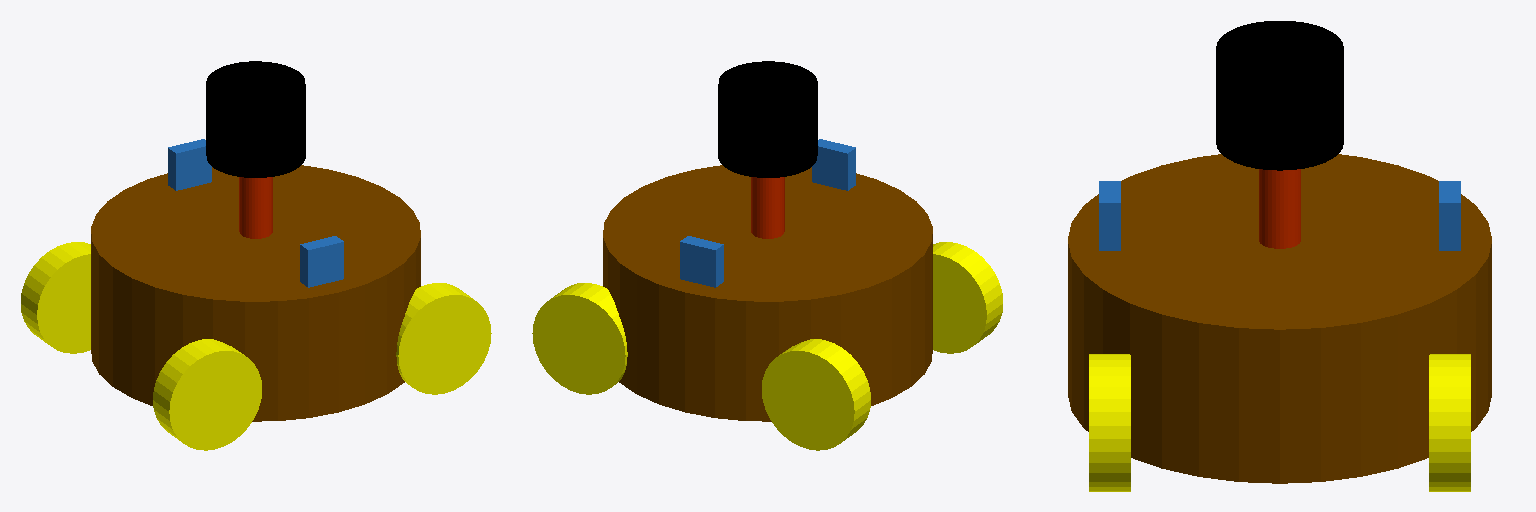
URDF robot description (my_robot):
<?xml version="1.0" ?>
<!-- =================================================================================== -->
<!-- |    This document was autogenerated by xacro from /home/hiro/ros2/AIC_car_2025/install/robot_gazebo/share/robot_gazebo/launch/../urdf/robot.urdf.xacro | -->
<!-- |    EDITING THIS FILE BY HAND IS NOT RECOMMENDED                                 | -->
<!-- =================================================================================== -->
<robot name="my_robot">
  <!-- 宏:颜色设置 -->
  <material name="black">
    <color rgba="0.0 0.0 0.0 1.0"/>
  </material>
  <material name="yellow">
    <color rgba="1.0 1.0 0.0 1.0"/>
  </material>
  <!-- 虚拟的 root link（无质量，无惯性） -->
  <link name="base_footprint"/>
  <!-- 原 base_link 是 base_footprint 的子链接 -->
  <joint name="base_footprint_to_base_link" type="fixed">
    <parent link="base_footprint"/>
    <child link="base_link"/>
    <origin rpy="0 0 0" xyz="0 0 0.0425"/>
  </joint>
  <!-- 底盘主体 -->
  <link name="base_link">
    <!-- 可视化 -->
    <visual>
      <geometry>
        <cylinder length="0.08" radius="0.1"/>
      </geometry>
      <origin rpy="0 0 0" xyz="0 0 0"/>
      <material name="yellow">
        <color rgba="0.5 0.3 0.0 0.5"/>
      </material>
    </visual>
    <!-- 碰撞体 -->
    <collision>
      <geometry>
        <cylinder length="0.08" radius="0.1"/>
      </geometry>
      <origin rpy="0 0 0" xyz="0 0 0"/>
    </collision>
    <!-- 惯性矩阵 -->
    <inertial>
      <mass value="2.0"/>
      <origin rpy="0 0 0" xyz="0 0 0"/>
      <inertia ixx="0.006066666666666668" ixy="0" ixz="0" iyy="0.006066666666666668" iyz="0" izz="0.1"/>
    </inertial>
  </link>
  <link name="front_left_wheel">
    <visual>
      <geometry>
        <cylinder length="0.02" radius="0.0325"/>
      </geometry>
      <origin rpy="1.5707963 0 0" xyz="0 0 0"/>
      <material name="yellow"/>
    </visual>
    <collision>
      <geometry>
        <cylinder length="0.02" radius="0.0325"/>
      </geometry>
      <origin rpy="1.5707963 0 0" xyz="0 0 0"/>
      <!-- 添加摩擦力 -->
      <surface>
        <friction>
          <ode>
            <mu>1.0</mu>
            <!-- 主摩擦系数 -->
            <mu2>1.0</mu2>
            <!-- 次摩擦系数 -->
          </ode>
        </friction>
      </surface>
    </collision>
    <inertial>
      <mass value="0.1"/>
      <inertia ixx="2.9739583333333336e-05" ixy="0" ixz="0" iyy="2.9739583333333336e-05" iyz="0" izz="5.281250000000001e-05"/>
    </inertial>
  </link>
  <joint name="front_left_wheel_joint" type="continuous">
    <parent link="base_link"/>
    <child link="front_left_wheel"/>
    <origin rpy="0 0 0" xyz="0.08 0.08 -0.0175"/>
    <axis xyz="0 1 0"/>
  </joint>
  <gazebo reference="front_left_wheel">
    <material>Gazebo/yellow</material>
  </gazebo>
  <link name="front_right_wheel">
    <visual>
      <geometry>
        <cylinder length="0.02" radius="0.0325"/>
      </geometry>
      <origin rpy="1.5707963 0 0" xyz="0 0 0"/>
      <material name="yellow"/>
    </visual>
    <collision>
      <geometry>
        <cylinder length="0.02" radius="0.0325"/>
      </geometry>
      <origin rpy="1.5707963 0 0" xyz="0 0 0"/>
      <!-- 添加摩擦力 -->
      <surface>
        <friction>
          <ode>
            <mu>1.0</mu>
            <!-- 主摩擦系数 -->
            <mu2>1.0</mu2>
            <!-- 次摩擦系数 -->
          </ode>
        </friction>
      </surface>
    </collision>
    <inertial>
      <mass value="0.1"/>
      <inertia ixx="2.9739583333333336e-05" ixy="0" ixz="0" iyy="2.9739583333333336e-05" iyz="0" izz="5.281250000000001e-05"/>
    </inertial>
  </link>
  <joint name="front_right_wheel_joint" type="continuous">
    <parent link="base_link"/>
    <child link="front_right_wheel"/>
    <origin rpy="0 0 0" xyz="0.08 -0.08 -0.0175"/>
    <axis xyz="0 1 0"/>
  </joint>
  <gazebo reference="front_right_wheel">
    <material>Gazebo/yellow</material>
  </gazebo>
  <link name="rear_left_wheel">
    <visual>
      <geometry>
        <cylinder length="0.02" radius="0.0325"/>
      </geometry>
      <origin rpy="1.5707963 0 0" xyz="0 0 0"/>
      <material name="yellow"/>
    </visual>
    <collision>
      <geometry>
        <cylinder length="0.02" radius="0.0325"/>
      </geometry>
      <origin rpy="1.5707963 0 0" xyz="0 0 0"/>
      <!-- 添加摩擦力 -->
      <surface>
        <friction>
          <ode>
            <mu>1.0</mu>
            <!-- 主摩擦系数 -->
            <mu2>1.0</mu2>
            <!-- 次摩擦系数 -->
          </ode>
        </friction>
      </surface>
    </collision>
    <inertial>
      <mass value="0.1"/>
      <inertia ixx="2.9739583333333336e-05" ixy="0" ixz="0" iyy="2.9739583333333336e-05" iyz="0" izz="5.281250000000001e-05"/>
    </inertial>
  </link>
  <joint name="rear_left_wheel_joint" type="continuous">
    <parent link="base_link"/>
    <child link="rear_left_wheel"/>
    <origin rpy="0 0 0" xyz="-0.08 0.08 -0.0175"/>
    <axis xyz="0 1 0"/>
  </joint>
  <gazebo reference="rear_left_wheel">
    <material>Gazebo/yellow</material>
  </gazebo>
  <link name="rear_right_wheel">
    <visual>
      <geometry>
        <cylinder length="0.02" radius="0.0325"/>
      </geometry>
      <origin rpy="1.5707963 0 0" xyz="0 0 0"/>
      <material name="yellow"/>
    </visual>
    <collision>
      <geometry>
        <cylinder length="0.02" radius="0.0325"/>
      </geometry>
      <origin rpy="1.5707963 0 0" xyz="0 0 0"/>
      <!-- 添加摩擦力 -->
      <surface>
        <friction>
          <ode>
            <mu>1.0</mu>
            <!-- 主摩擦系数 -->
            <mu2>1.0</mu2>
            <!-- 次摩擦系数 -->
          </ode>
        </friction>
      </surface>
    </collision>
    <inertial>
      <mass value="0.1"/>
      <inertia ixx="2.9739583333333336e-05" ixy="0" ixz="0" iyy="2.9739583333333336e-05" iyz="0" izz="5.281250000000001e-05"/>
    </inertial>
  </link>
  <joint name="rear_right_wheel_joint" type="continuous">
    <parent link="base_link"/>
    <child link="rear_right_wheel"/>
    <origin rpy="0 0 0" xyz="-0.08 -0.08 -0.0175"/>
    <axis xyz="0 1 0"/>
  </joint>
  <gazebo reference="rear_right_wheel">
    <material>Gazebo/yellow</material>
  </gazebo>
  <!-- 摄像头质量 -->
  <!-- 摄像头 Link -->
  <link name="camera1">
    <visual>
      <geometry>
        <box size="0.01 0.025 0.025"/>
      </geometry>
      <origin rpy="0 0 0" xyz="0 0 0"/>
      <material name="camera_blue">
        <color rgba="0.2 0.5 0.8 1.0"/>
      </material>
    </visual>
    <collision>
      <geometry>
        <box size="0.01 0.025 0.025"/>
      </geometry>
      <origin rpy="0 0 0" xyz="0 0 0"/>
    </collision>
    <inertial>
      <mass value="0.01"/>
      <inertia ixx="6.041666666666668e-07" ixy="0" ixz="0" iyy="6.041666666666668e-07" iyz="0" izz="1.041666666666667e-06"/>
    </inertial>
  </link>
  <!-- 摄像头 Joint -->
  <joint name="camera1_joint" type="fixed">
    <parent link="base_link"/>
    <child link="camera1"/>
    <origin rpy="0 0 1.5708" xyz="0.0 0.08 0.052500000000000005"/>
  </joint>
  <!-- Gazebo 材质 -->
  <gazebo reference="camera1">
    <material>Gazebo/Blue</material>
  </gazebo>
  <!-- Gazebo 摄像头传感器插件 -->
  <gazebo reference="camera1">
    <sensor name="camera1_sensor" type="camera">
      <update_rate>30.0</update_rate>
      <visualize>true</visualize>
      <!-- 在 Gazebo 中显示摄像头视锥 -->
      <camera name="camera1">
        <horizontal_fov>1.6</horizontal_fov>
        <!-- 90度视角 = 1.6 弧度 -->
        <image>
          <width>1280</width>
          <!-- 720p 宽度 -->
          <height>720</height>
          <!-- 720p 高度 -->
          <format>R8G8B8</format>
        </image>
        <clip>
          <near>0.02</near>
          <far>10.0</far>
        </clip>
        <noise>
          <type>gaussian</type>
          <mean>0.0</mean>
          <stddev>0.007</stddev>
        </noise>
      </camera>
      <plugin filename="libgazebo_ros_camera.so" name="camera1_controller">
        <ros>
          <namespace/>
          <remapping>image_raw:=camera1/image_raw</remapping>
          <remapping>camera_info:=camera1/camera_info</remapping>
        </ros>
        <camera_name>camera1</camera_name>
        <frame_name>camera1</frame_name>
        <hack_baseline>0.07</hack_baseline>
      </plugin>
    </sensor>
  </gazebo>
  <!-- 摄像头 Link -->
  <link name="camera2">
    <visual>
      <geometry>
        <box size="0.01 0.025 0.025"/>
      </geometry>
      <origin rpy="0 0 0" xyz="0 0 0"/>
      <material name="camera_blue">
        <color rgba="0.2 0.5 0.8 1.0"/>
      </material>
    </visual>
    <collision>
      <geometry>
        <box size="0.01 0.025 0.025"/>
      </geometry>
      <origin rpy="0 0 0" xyz="0 0 0"/>
    </collision>
    <inertial>
      <mass value="0.01"/>
      <inertia ixx="6.041666666666668e-07" ixy="0" ixz="0" iyy="6.041666666666668e-07" iyz="0" izz="1.041666666666667e-06"/>
    </inertial>
  </link>
  <!-- 摄像头 Joint -->
  <joint name="camera2_joint" type="fixed">
    <parent link="base_link"/>
    <child link="camera2"/>
    <origin rpy="0 0 -1.5708" xyz="0.0 -0.08 0.052500000000000005"/>
  </joint>
  <!-- Gazebo 材质 -->
  <gazebo reference="camera2">
    <material>Gazebo/Blue</material>
  </gazebo>
  <!-- Gazebo 摄像头传感器插件 -->
  <gazebo reference="camera2">
    <sensor name="camera2_sensor" type="camera">
      <update_rate>30.0</update_rate>
      <visualize>true</visualize>
      <!-- 在 Gazebo 中显示摄像头视锥 -->
      <camera name="camera2">
        <horizontal_fov>1.6</horizontal_fov>
        <!-- 90度视角 = 1.6 弧度 -->
        <image>
          <width>1280</width>
          <!-- 720p 宽度 -->
          <height>720</height>
          <!-- 720p 高度 -->
          <format>R8G8B8</format>
        </image>
        <clip>
          <near>0.02</near>
          <far>10.0</far>
        </clip>
        <noise>
          <type>gaussian</type>
          <mean>0.0</mean>
          <stddev>0.007</stddev>
        </noise>
      </camera>
      <plugin filename="libgazebo_ros_camera.so" name="camera2_controller">
        <ros>
          <namespace/>
          <remapping>image_raw:=camera2/image_raw</remapping>
          <remapping>camera_info:=camera2/camera_info</remapping>
        </ros>
        <camera_name>camera2</camera_name>
        <frame_name>camera2</frame_name>
        <hack_baseline>0.07</hack_baseline>
      </plugin>
    </sensor>
  </gazebo>
  <!-- 支架安装的z坐标:底盘高度 / 2 + 支架高度 / 2  -->
  <!-- 支架质量 -->
  <link name="support">
    <visual>
      <geometry>
        <cylinder length="0.05" radius="0.01"/>
      </geometry>
      <origin rpy="0.0 0.0 0.0" xyz="0.0 0.0 0.0"/>
      <material name="red">
        <color rgba="0.8 0.2 0.0 0.8"/>
      </material>
    </visual>
    <collision>
      <geometry>
        <cylinder length="0.05" radius="0.01"/>
      </geometry>
      <origin rpy="0.0 0.0 0.0" xyz="0.0 0.0 0.0"/>
    </collision>
    <inertial>
      <mass value="0.02"/>
      <inertia ixx="4.666666666666667e-06" ixy="0" ixz="0" iyy="4.666666666666667e-06" iyz="0" izz="1.0000000000000002e-06"/>
    </inertial>
  </link>
  <joint name="support2base_link" type="fixed">
    <parent link="base_link"/>
    <child link="support"/>
    <origin xyz="0.0 0.0 0.065"/>
  </joint>
  <gazebo reference="support">
    <material>Gazebo/White</material>
  </gazebo>
  <!-- 雷达质量 -->
  <!-- 雷达关节以及link -->
  <link name="laser">
    <visual>
      <geometry>
        <cylinder length="0.05" radius="0.03"/>
      </geometry>
      <origin rpy="0.0 0.0 0.0" xyz="0.0 0.0 0.0"/>
      <material name="black"/>
    </visual>
    <collision>
      <geometry>
        <cylinder length="0.05" radius="0.03"/>
      </geometry>
      <origin rpy="0.0 0.0 0.0" xyz="0.0 0.0 0.0"/>
    </collision>
    <inertial>
      <mass value="0.1"/>
      <inertia ixx="4.333333333333333e-05" ixy="0" ixz="0" iyy="4.333333333333333e-05" iyz="0" izz="4.4999999999999996e-05"/>
    </inertial>
  </link>
  <joint name="laser2support" type="fixed">
    <parent link="support"/>
    <child link="laser"/>
    <origin xyz="0.0 0.0 0.05"/>
  </joint>
  <gazebo reference="laser">
    <material>Gazebo/Black</material>
  </gazebo>
  <!-- 雷达传感器仿真插件 -->
  <gazebo reference="laser">
    <sensor name="laser_sensor" type="ray">
      <visualize>true</visualize>
      <update_rate>10</update_rate>
      <ray>
        <scan>
          <horizontal>
            <samples>720</samples>
            <resolution>1</resolution>
            <min_angle>-3.14159</min_angle>
            <max_angle>3.14159</max_angle>
          </horizontal>
        </scan>
        <range>
          <min>0.15</min>
          <max>12.0</max>
          <resolution>0.01</resolution>
        </range>
      </ray>
      <plugin filename="libgazebo_ros_ray_sensor.so" name="gazebo_ros_laser">
        <ros>
          <remapping>~/out:=scan</remapping>
        </ros>
        <output_type>sensor_msgs/LaserScan</output_type>
        <frame_name>laser</frame_name>
      </plugin>
    </sensor>
  </gazebo>
  <!-- 绝对位姿获取插件 -->
  <gazebo>
    <plugin filename="libodom_plugin.so" name="odom_plugin">
      <topic_name>/absolute_pose</topic_name>
      <publish_rate>50</publish_rate>
    </plugin>
  </gazebo>
  <!-- 平面移动插件 -->
  <gazebo>
    <plugin filename="libgazebo_ros_planar_move.so" name="planar_move_plugin">
      <commandTopic>cmd_vel</commandTopic>
      <odometryTopic>odom</odometryTopic>
      <odometryFrame>odom</odometryFrame>
      <odometryRate>50.0</odometryRate>
      <robotBaseFrame>base_footprint</robotBaseFrame>
      <update_rate>50</update_rate>
    </plugin>
  </gazebo>
</robot>

--- What the picture shows (computed from the rendered views, not written in the file) ---
The picture shows the robot from 3 angles, left to right: view 1: azimuth 30°, elevation 25°; view 2: azimuth 150°, elevation 25°; view 3: azimuth 270°, elevation 25°; orthographic projection.
Model my_robot with 10 links and 9 joints (4 continuous, 5 fixed), rooted at base_footprint, posed every joint at zero.
Links seen in each view (by area): view 1: base_link, laser, rear_right_wheel, front_right_wheel, rear_left_wheel, support, camera2, camera1; view 2: base_link, laser, rear_left_wheel, front_left_wheel, rear_right_wheel, support, camera1, camera2; view 3: base_link, laser, front_left_wheel, front_right_wheel, support, camera1, camera2.
Link boxes in pixels (<box>): base_link: <box>91,165,420,421</box>; laser: <box>206,61,305,177</box>; rear_right_wheel: <box>153,339,261,450</box>; front_right_wheel: <box>396,283,491,394</box>; rear_left_wheel: <box>21,242,90,353</box>; support: <box>239,177,272,238</box>; camera2: <box>300,236,343,287</box>; camera1: <box>168,139,211,190</box>; base_link: <box>603,165,932,421</box>; laser: <box>718,61,817,177</box>; rear_left_wheel: <box>762,339,870,450</box>; front_left_wheel: <box>532,283,627,394</box>; rear_right_wheel: <box>933,242,1002,353</box>; support: <box>751,177,784,238</box>; camera1: <box>680,236,723,287</box>; camera2: <box>812,139,855,190</box>; base_link: <box>1068,154,1491,483</box>; laser: <box>1216,21,1343,170</box>; front_left_wheel: <box>1429,354,1470,491</box>; front_right_wheel: <box>1089,354,1130,491</box>; support: <box>1259,169,1300,248</box>; camera1: <box>1439,181,1460,250</box>; camera2: <box>1099,181,1120,250</box>.
Size in the robot's own frame: 0.225 by 0.2 by 0.19 metres.
Geometry: primitives only (box / cylinder / sphere), no mesh files.
